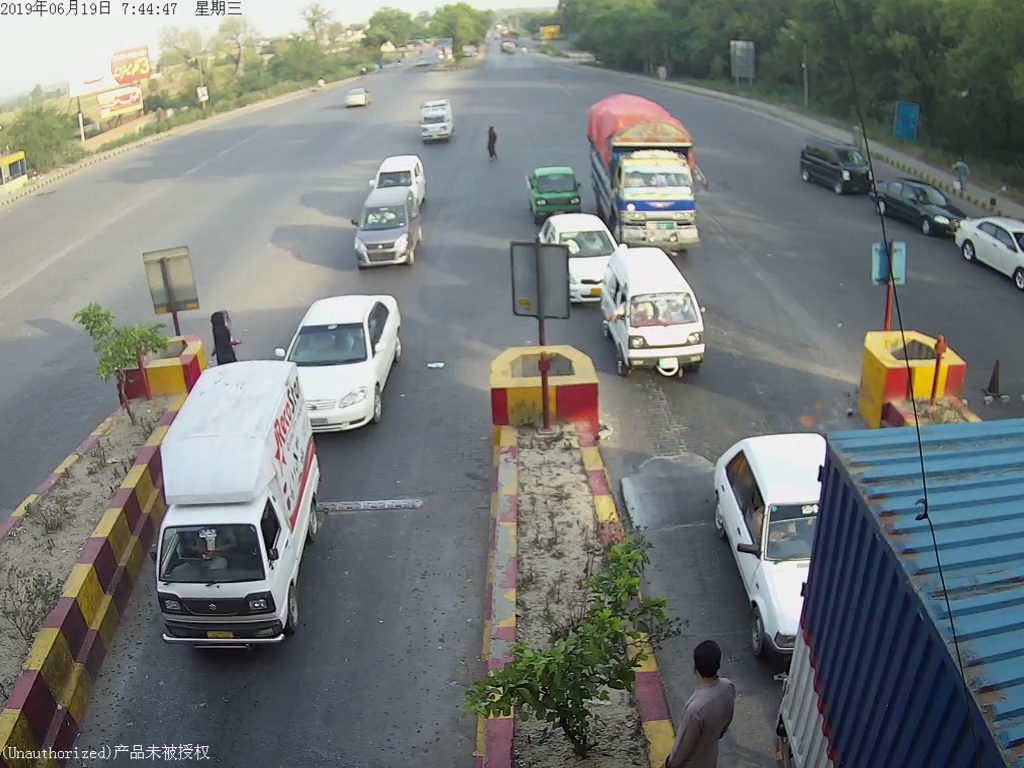Cat-1: (158, 361, 323, 647), (714, 434, 809, 653), (600, 253, 716, 385), (294, 302, 412, 422), (348, 192, 423, 266)
Cat-4: (597, 97, 706, 256)
